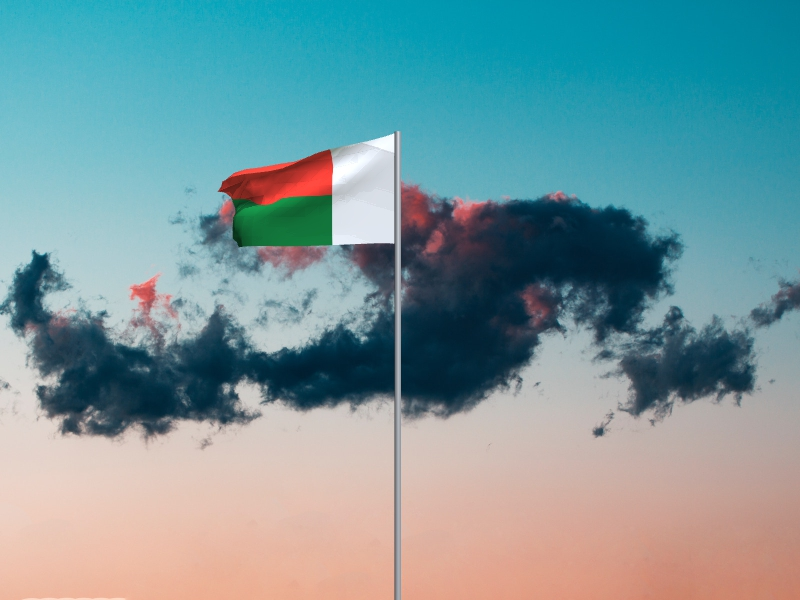mg: (217, 134, 395, 249)
